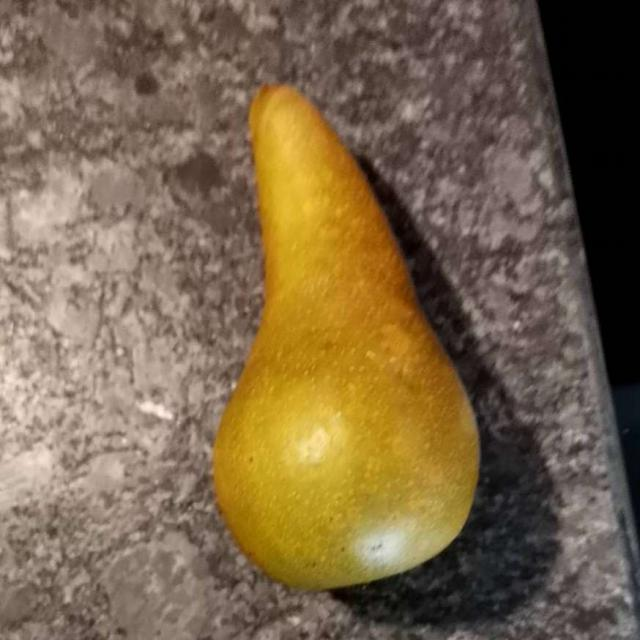pear: (219, 88, 468, 583)
